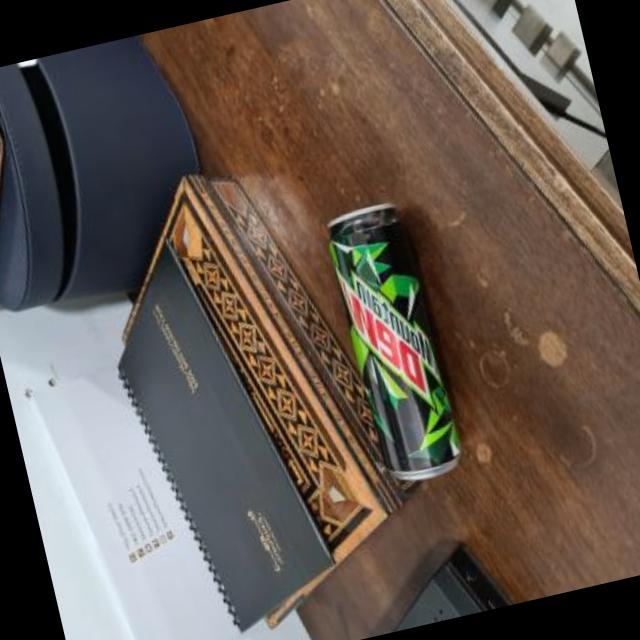cardboard paper: (32, 371, 239, 640)
metal: (325, 200, 458, 477)
